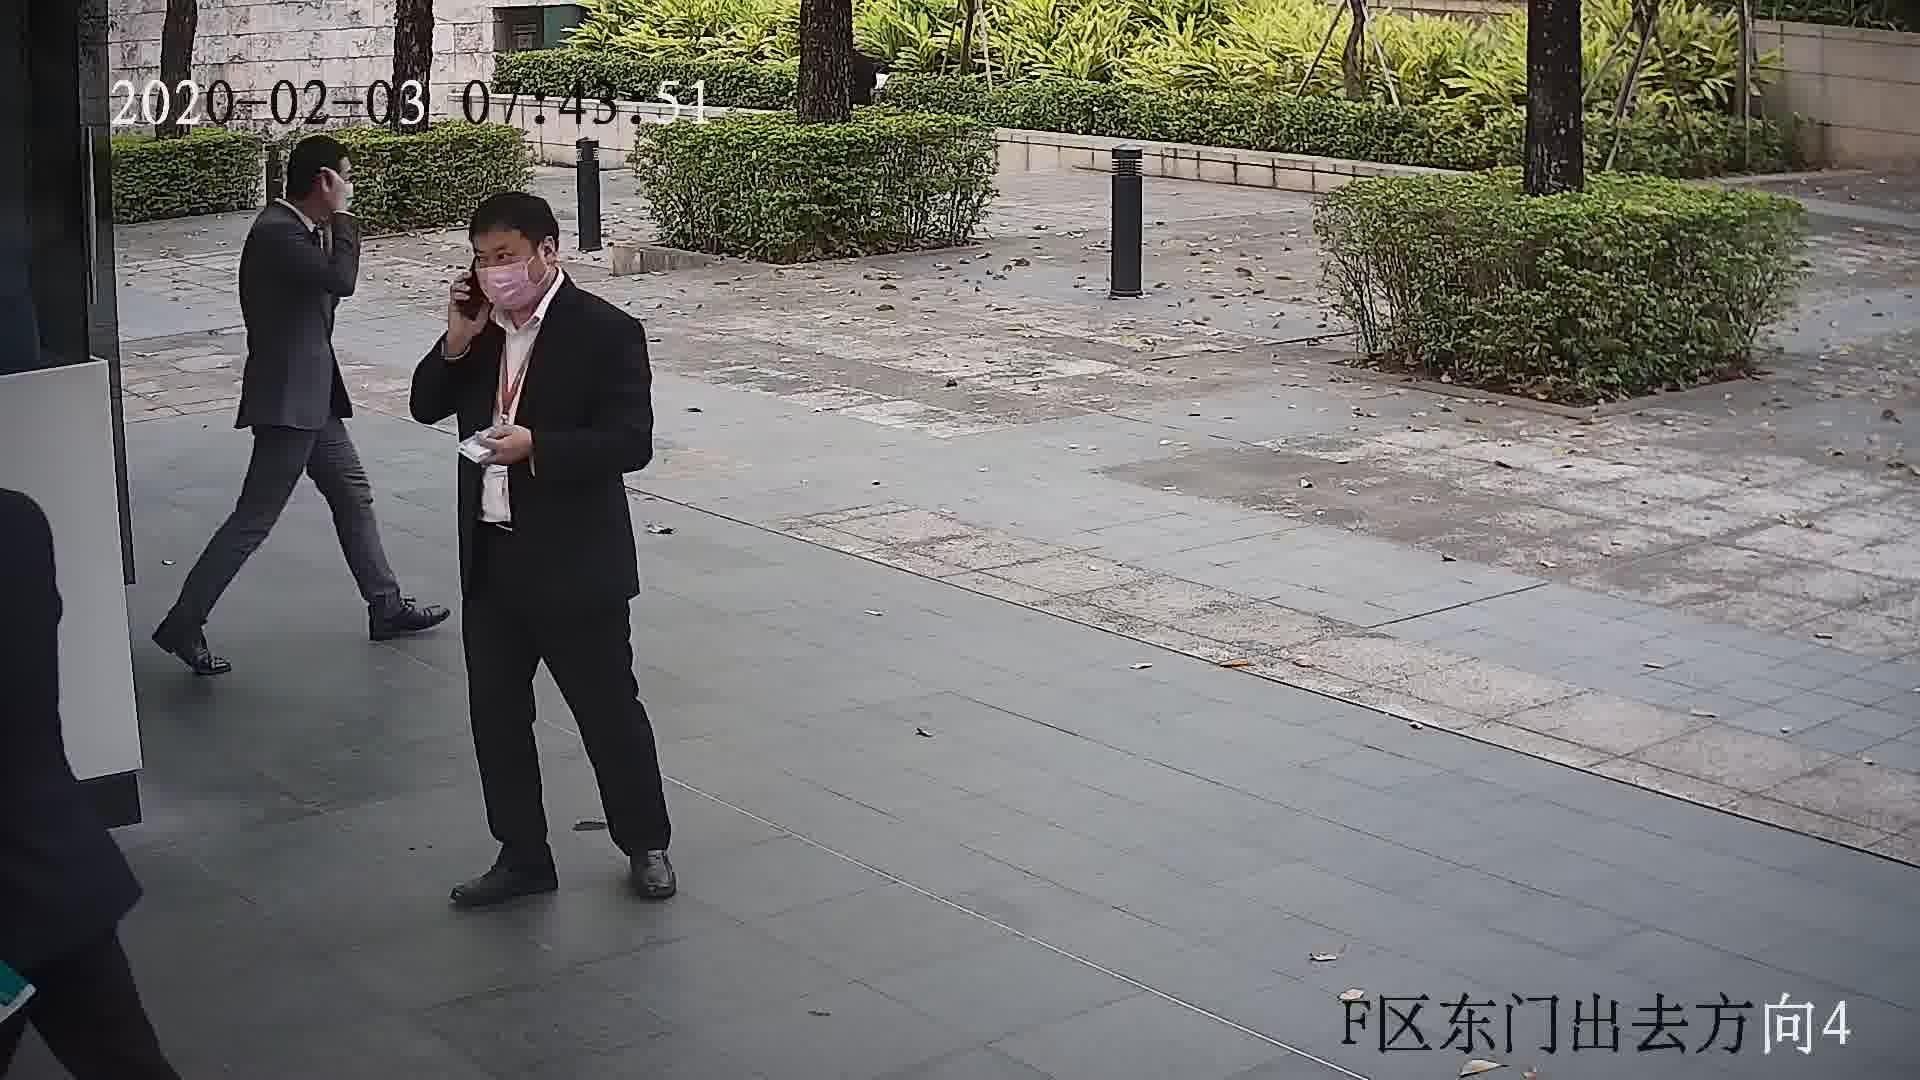face: (463, 237, 546, 321)
mask: (466, 260, 539, 312)
person: (411, 196, 638, 379), (239, 135, 360, 267), (2, 373, 60, 581)
